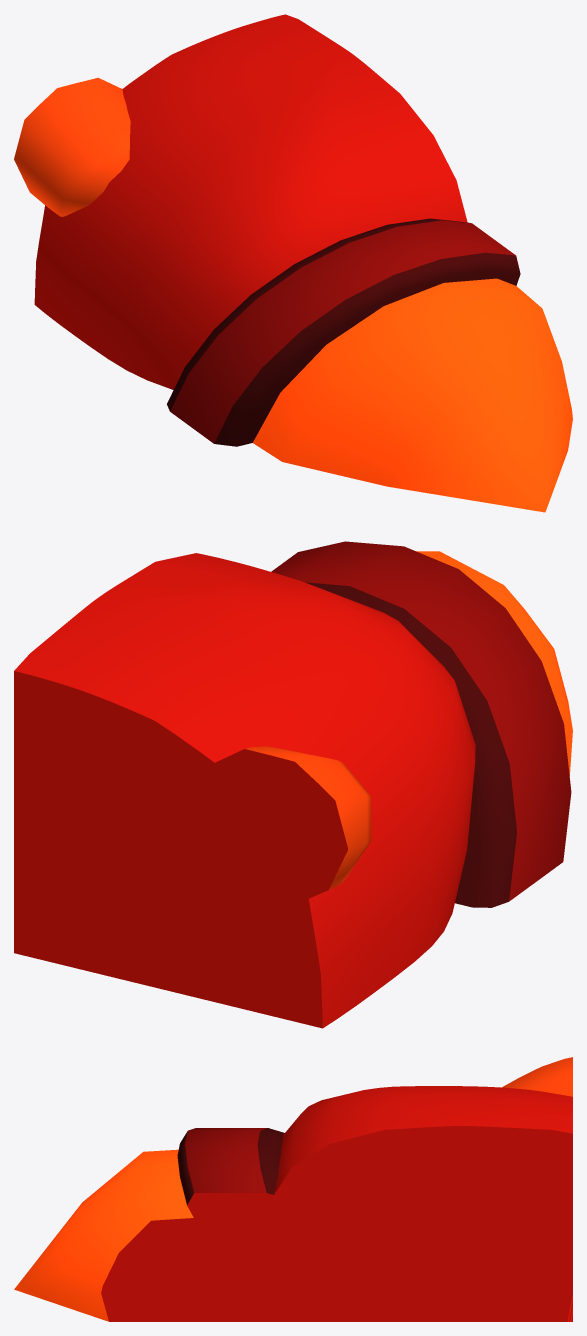
File: shot_punch_b159.glb
3 renders of one model, top to bottom at view 1: azimuth 30°, elevation 25°; view 2: azimuth 150°, elevation 25°; view 3: azimuth 270°, elevation 25°, orthographic. The views are drawn at different scales.
Parts seen in each view (by area): view 1: pu_mitt_b159, pu_fire_b159, pu_cuff_b159, pu_thumb_b159; view 2: pu_mitt_b159, pu_cuff_b159, pu_thumb_b159, pu_fire_b159; view 3: pu_mitt_b159, pu_fire_b159, pu_cuff_b159, pu_thumb_b159, pu_fire_core_b159.
Part boxes in pixels (x1,y1,x2,y2): pu_mitt_b159: (34, 14, 467, 389); pu_fire_b159: (253, 278, 572, 512); pu_cuff_b159: (167, 218, 520, 446); pu_thumb_b159: (14, 77, 130, 216); pu_mitt_b159: (14, 553, 475, 1028); pu_cuff_b159: (271, 541, 571, 907); pu_thumb_b159: (191, 746, 370, 907); pu_fire_b159: (416, 551, 572, 776); pu_mitt_b159: (271, 1086, 572, 1321); pu_fire_b159: (14, 1149, 254, 1321); pu_cuff_b159: (177, 1128, 357, 1321); pu_thumb_b159: (502, 1057, 572, 1096); pu_fire_core_b159: (218, 1273, 256, 1321).
Bounding box in the file's own units: 6.4 × 5.4 × 13.9.
